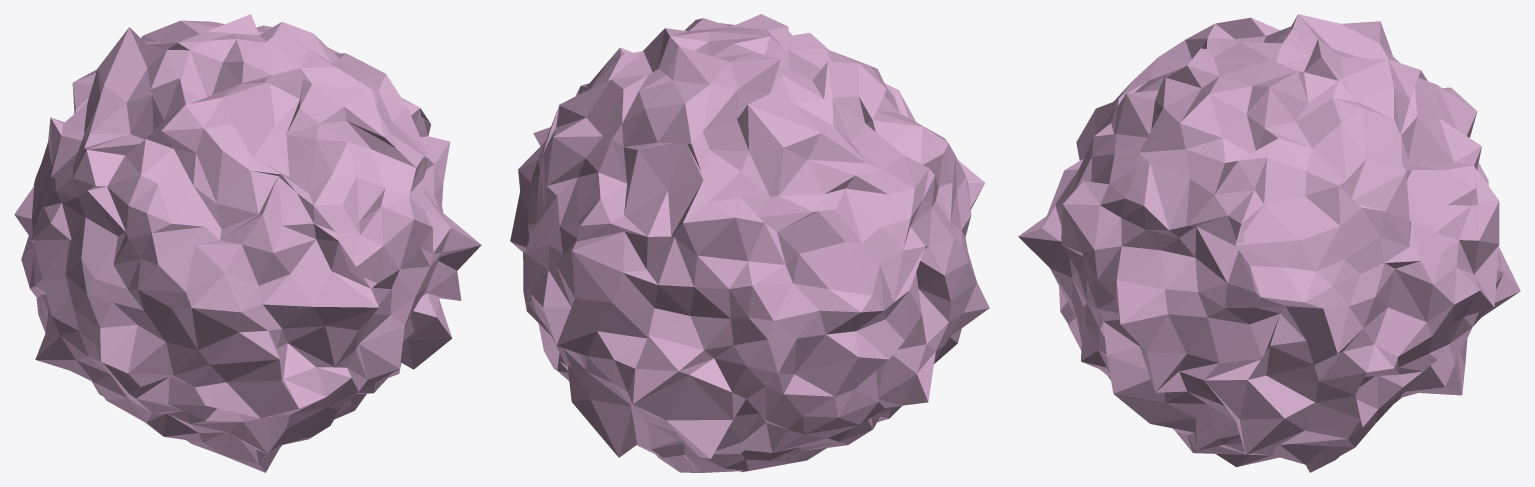
The model's file is ground.dae.
3 renders of one model, left to right at view 1: azimuth 30°, elevation 25°; view 2: azimuth 150°, elevation 25°; view 3: azimuth 270°, elevation 25°, orthographic. The views are drawn at different scales.
Parts seen in each view (by area): view 1: Icosphere; view 2: Icosphere; view 3: Icosphere.
Boxes of the visible parts, x1,y1,x2,y2 form: Icosphere: [14, 14, 481, 472]; Icosphere: [510, 14, 989, 472]; Icosphere: [1018, 14, 1520, 472].
Bounding box in the file's own units: 30.12 × 32.24 × 29.56.
